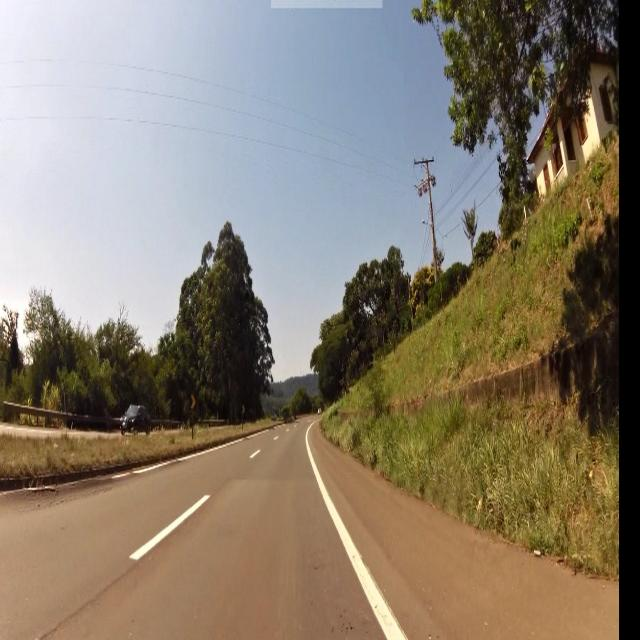Del: (189, 394, 196, 410)
